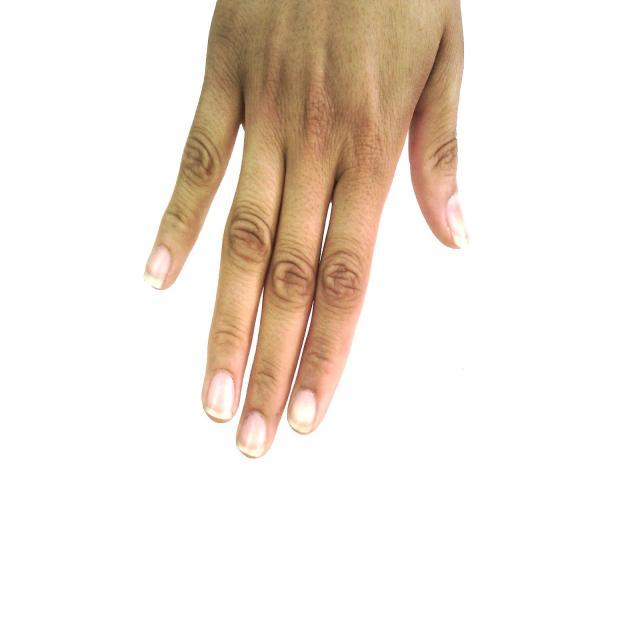Fingernail: (206, 371, 236, 421), (237, 412, 267, 457), (289, 390, 316, 433), (448, 195, 467, 247), (146, 247, 170, 287)
